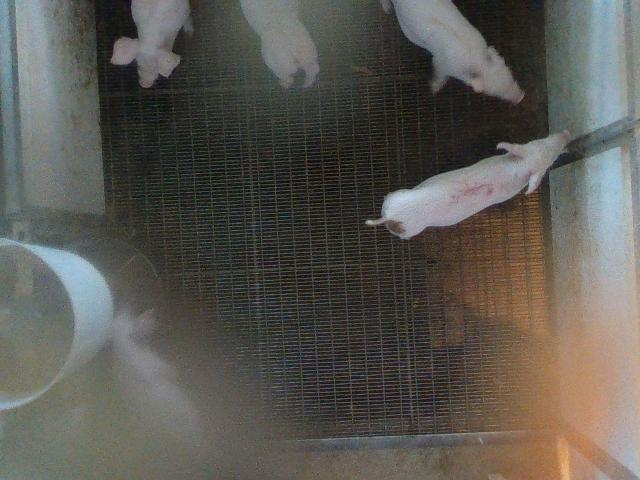pig-5: (366, 130, 571, 239)
